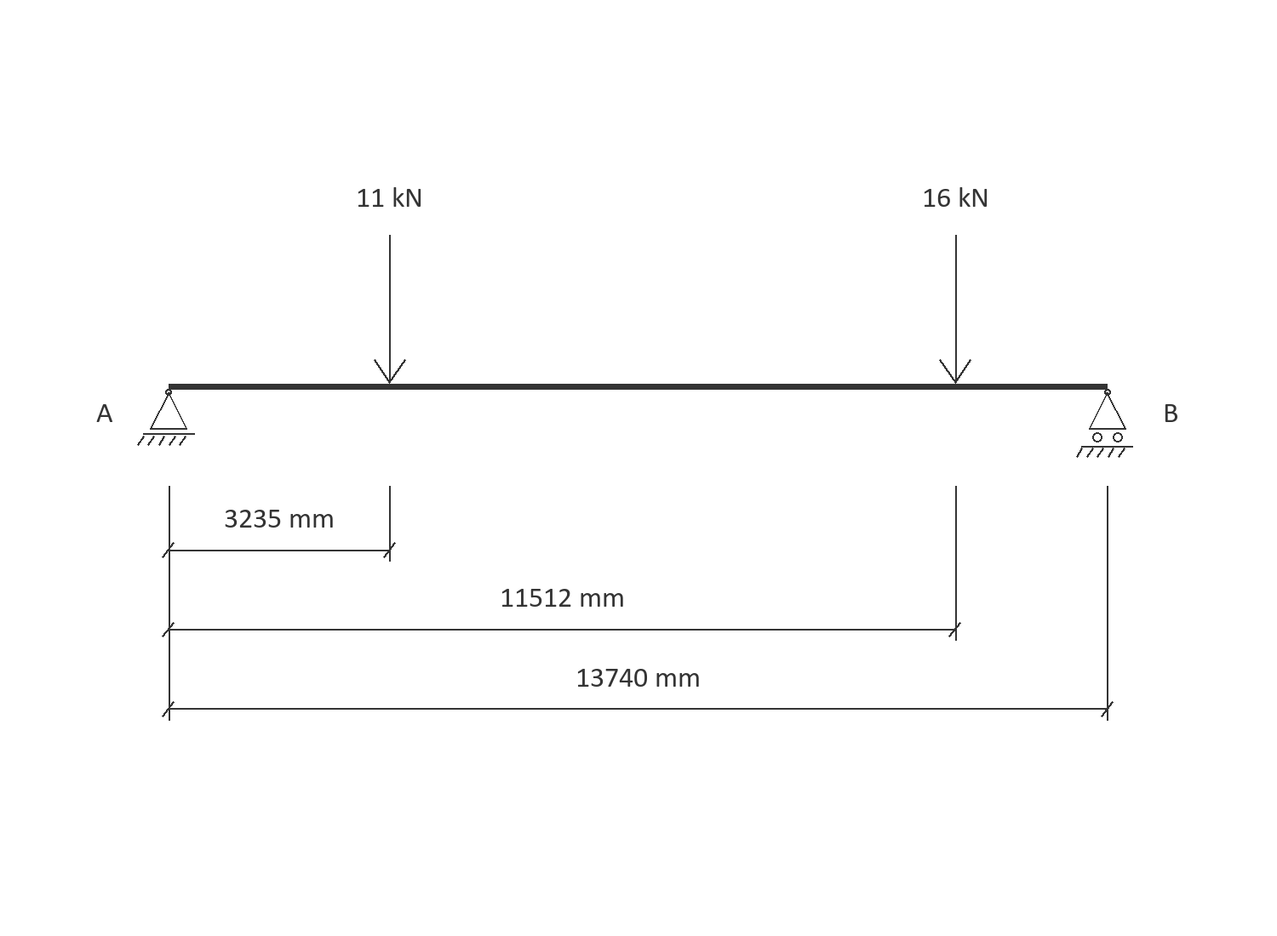pin_support: (137, 389, 195, 446)
point_load: (374, 235, 406, 384), (939, 235, 971, 384)
roller_support: (1076, 389, 1133, 458)
